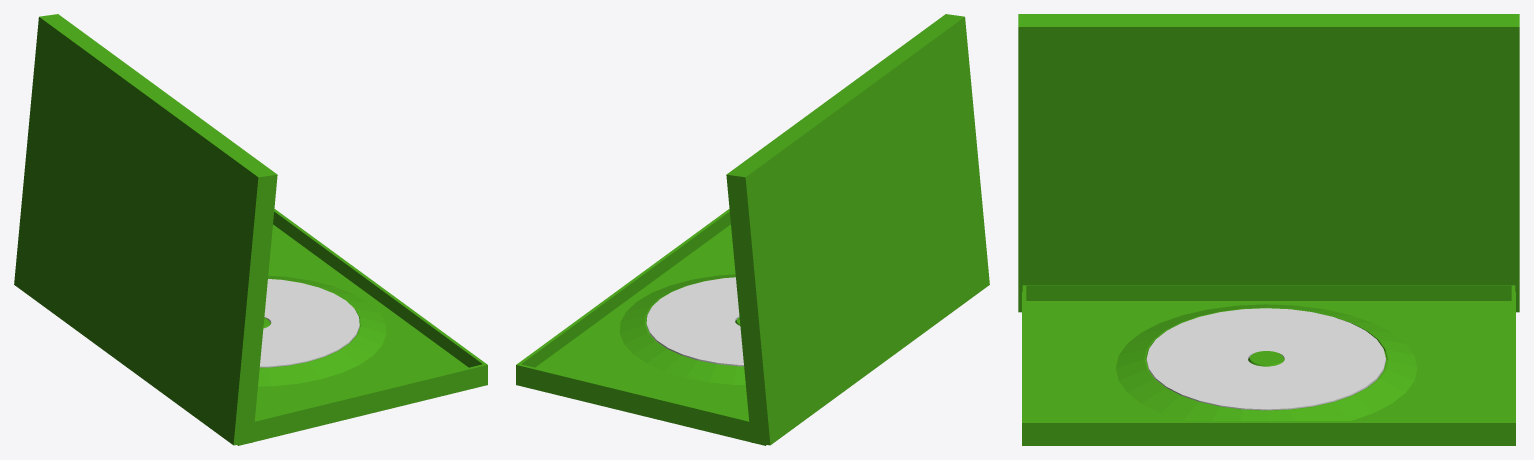
File: Xbox-Case.fbx
3 views of the same model, side by side, from view 1: azimuth 30°, elevation 25°; view 2: azimuth 150°, elevation 25°; view 3: azimuth 270°, elevation 25° (orthographic). The views are drawn at different scales.
Parts seen in each view (by area): view 1: Cube.014, Cube.015, Cylinder.010, Cylinder.011; view 2: Cube.014, Cube.015, Cylinder.010, Cylinder.011; view 3: Cube.014, Cube.015, Cylinder.010, Cylinder.011.
Part boxes in pixels (x1,y1,x2,y2): Cube.014: (14,14,277,445); Cube.015: (237,209,487,445); Cylinder.010: (259,279,359,367); Cylinder.011: (258,275,386,386); Cube.014: (726,14,989,445); Cube.015: (516,209,766,445); Cylinder.010: (646,277,743,366); Cylinder.011: (619,274,745,384); Cube.014: (1018,14,1519,312); Cube.015: (1022,285,1515,445); Cylinder.010: (1146,308,1385,410); Cylinder.011: (1115,304,1417,420).
Size of the model in its own units: 130 by 129 by 193.
